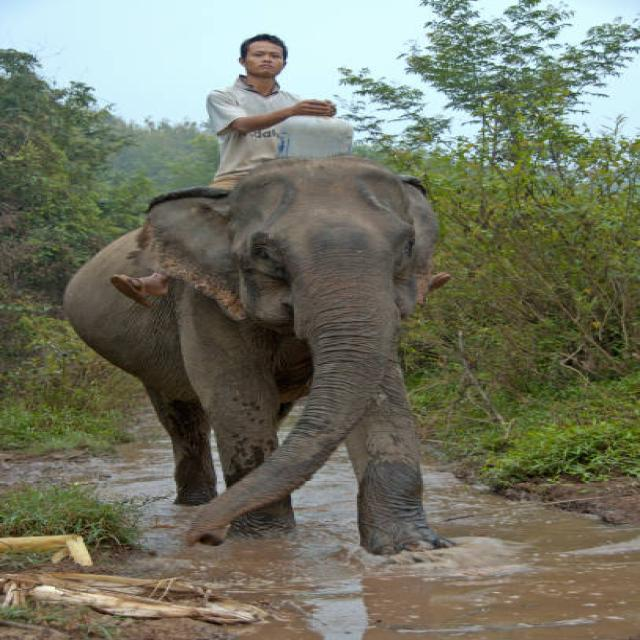Elephant: (71, 161, 532, 575)
